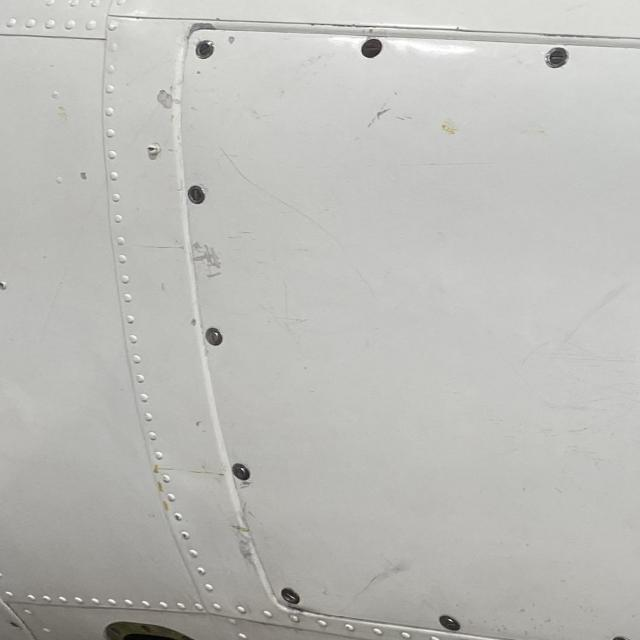Paint-off: (187, 242, 218, 277), (357, 98, 392, 129), (71, 165, 93, 183), (156, 89, 174, 110), (238, 479, 251, 494)
Scratch: (124, 236, 178, 250)
